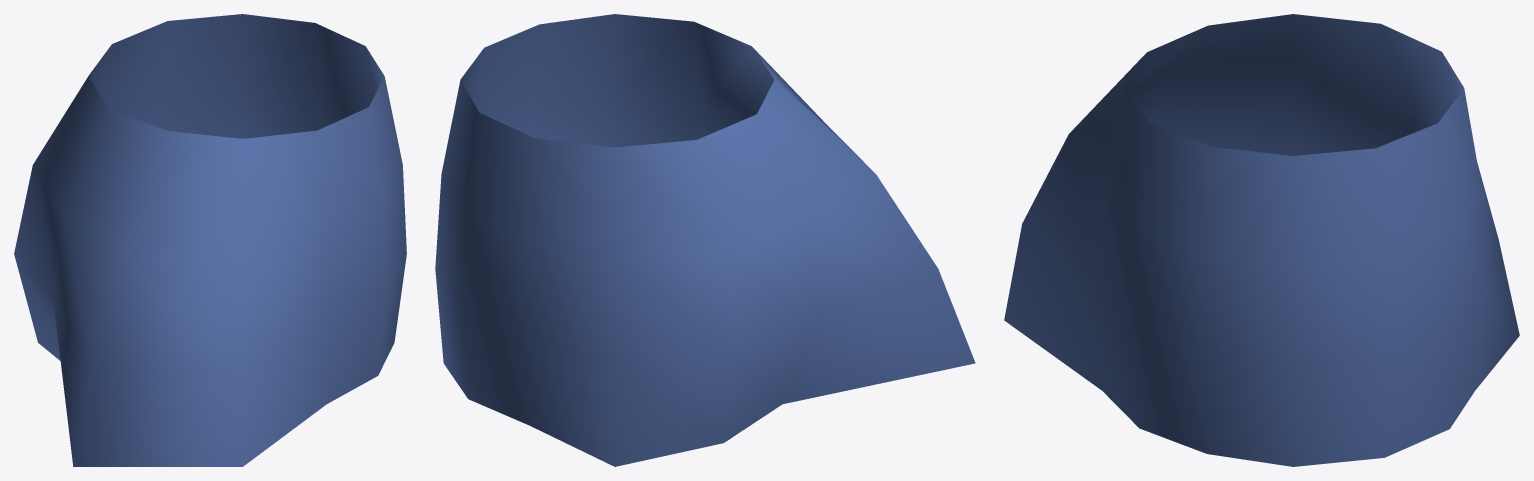
The model's file is spectre_armor_pauldron.R.glb.
The picture shows the model from 3 angles, left to right: view 1: azimuth 30°, elevation 25°; view 2: azimuth 150°, elevation 25°; view 3: azimuth 270°, elevation 25°; orthographic projection. The views are drawn at different scales.
Parts seen in each view (by area): view 1: spectre_armor_pauldron.R; view 2: spectre_armor_pauldron.R; view 3: spectre_armor_pauldron.R.
Boxes of the visible parts, left/top/right/bottom form: spectre_armor_pauldron.R: left=14, top=14, right=406, bottom=466; spectre_armor_pauldron.R: left=435, top=14, right=975, bottom=466; spectre_armor_pauldron.R: left=1004, top=14, right=1519, bottom=466.
Size of the model in its own units: 0.2337 by 0.149 by 0.2299.
